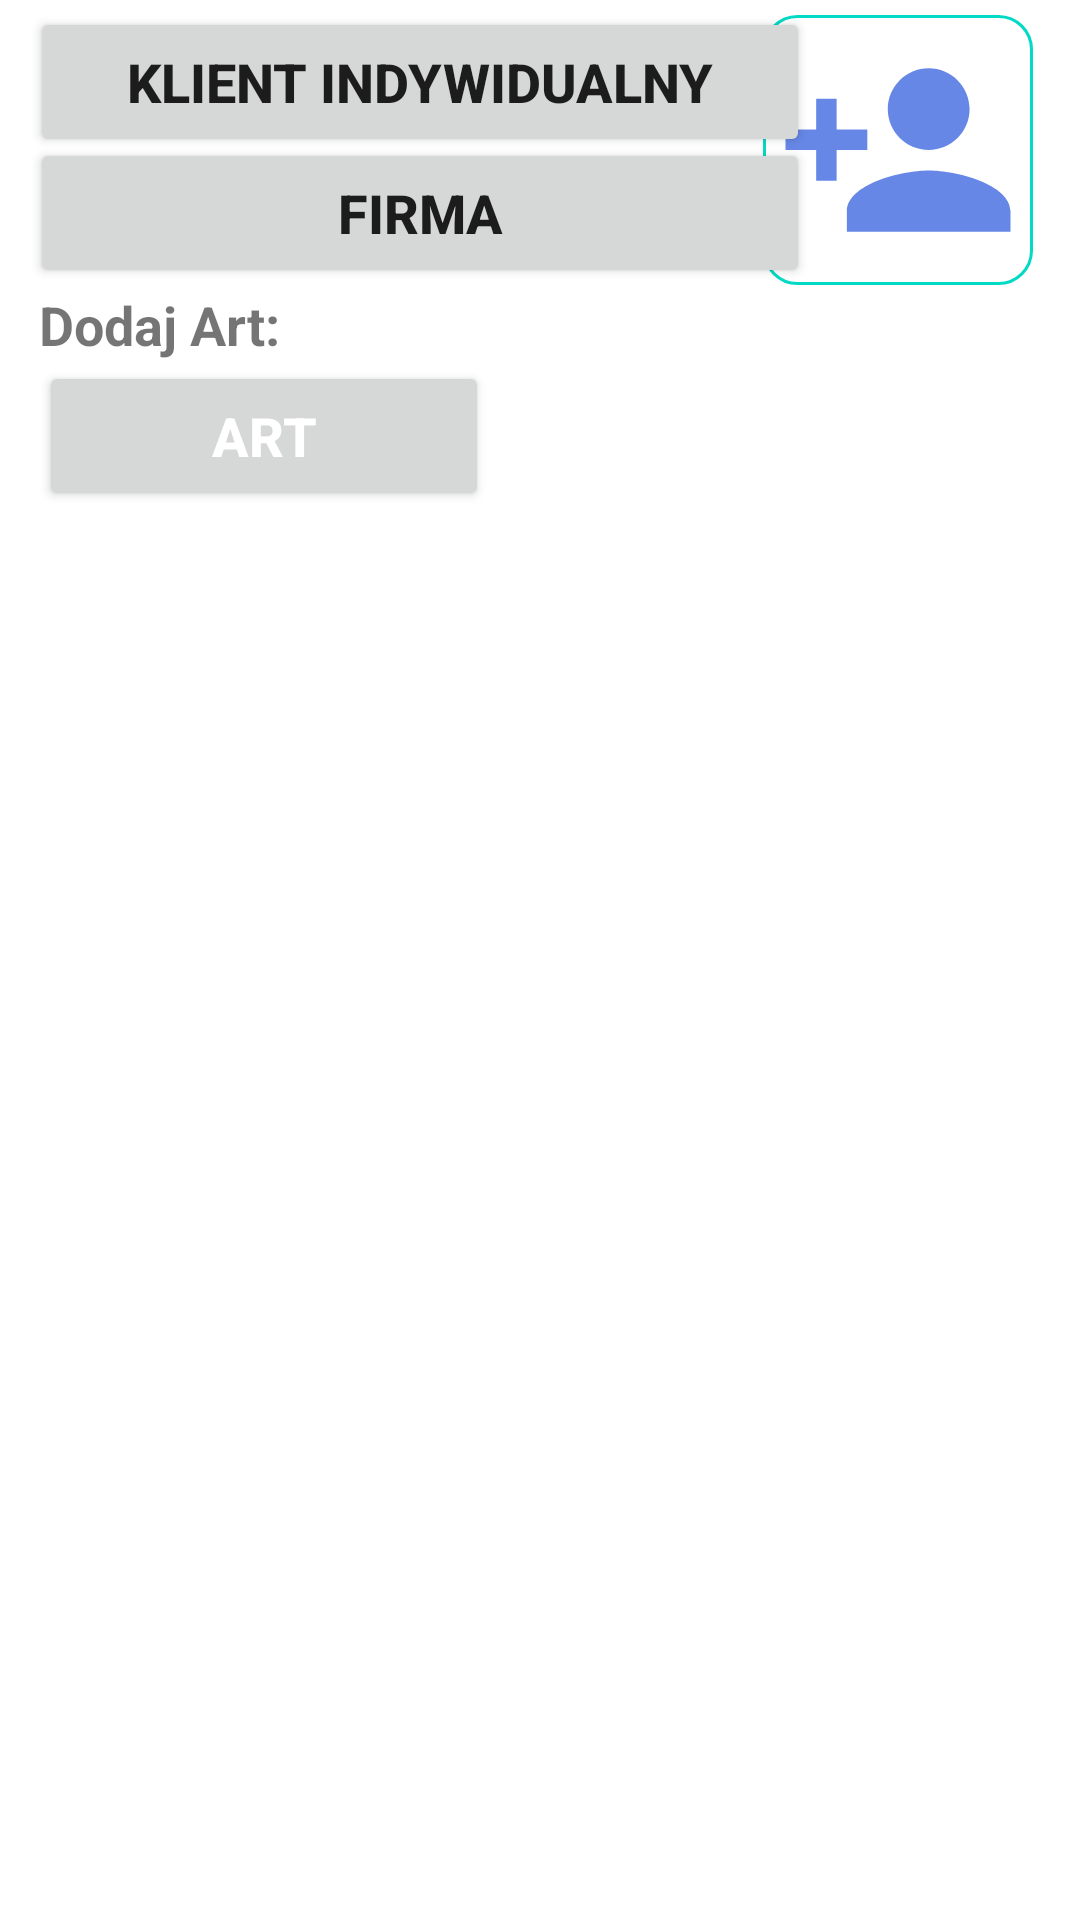

Where icons sit on this 1080 x 1920 app screen, as (x1, y1, x2, y2):
customer: (846, 68, 1011, 232)
